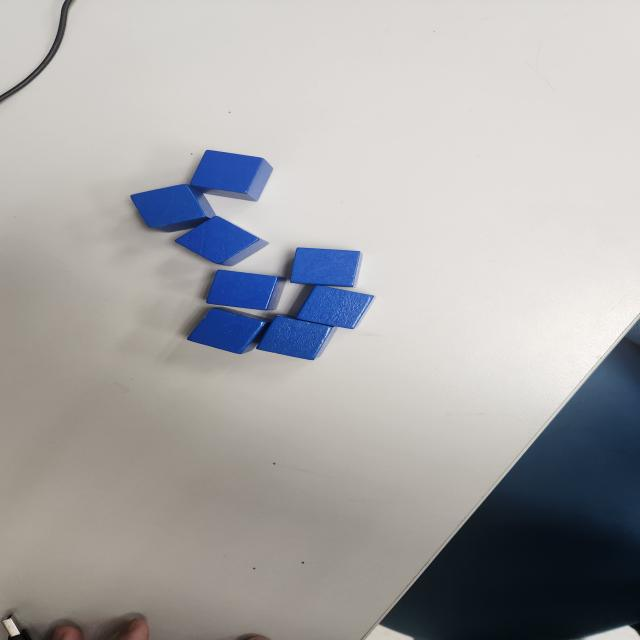blue: (174, 215, 270, 267), (190, 150, 274, 202), (130, 184, 216, 233), (186, 308, 271, 355), (254, 314, 334, 360), (295, 286, 376, 330), (205, 270, 288, 310), (290, 248, 362, 287)
